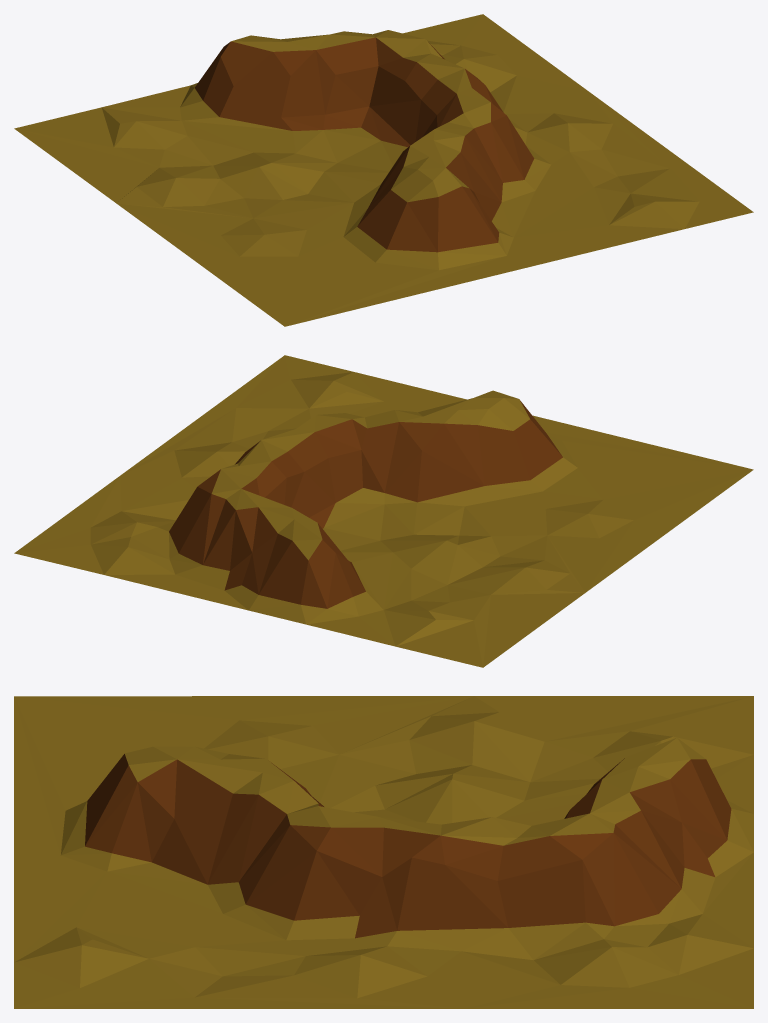
Rendered from TerrainDesert.FBX.
3 views of the same model, one above another, from view 1: azimuth 30°, elevation 25°; view 2: azimuth 150°, elevation 25°; view 3: azimuth 270°, elevation 25° (orthographic). The views are drawn at different scales.
Visible parts, largest first — view 1: Desert; view 2: Desert; view 3: Desert.
Part boxes in pixels (bbox=[...]): Desert: bbox=[14, 14, 753, 326]; Desert: bbox=[14, 355, 753, 667]; Desert: bbox=[14, 696, 753, 1008].
Size of the model in its own units: 50.8 by 7.03 by 50.8.
